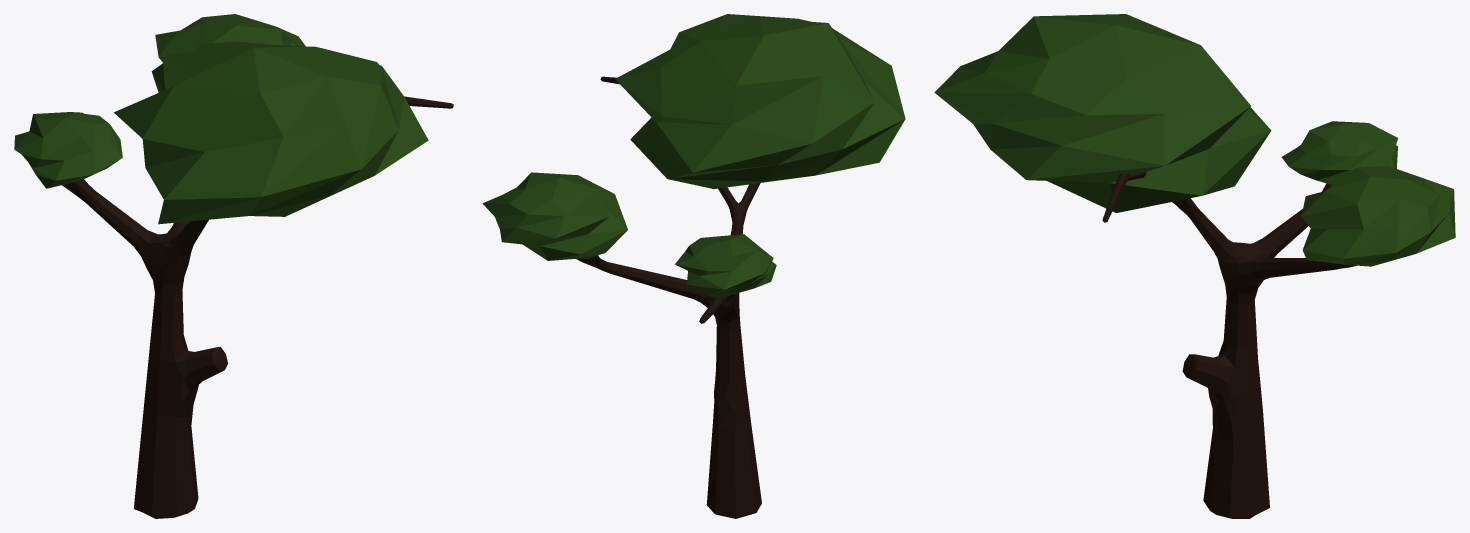
The model's file is SM_Tree05.fbx.
3 views of the same model, side by side, from view 1: azimuth 30°, elevation 25°; view 2: azimuth 150°, elevation 25°; view 3: azimuth 270°, elevation 25° (orthographic). The views are drawn at different scales.
Parts seen in each view (by area): view 1: Tree04; view 2: Tree04; view 3: Tree04.
Part boxes in pixels (<box>): Tree04: <box>14,14,453,518</box>; Tree04: <box>482,14,905,518</box>; Tree04: <box>934,14,1455,518</box>.
Size of the model in its own units: 151 by 226 by 213.
